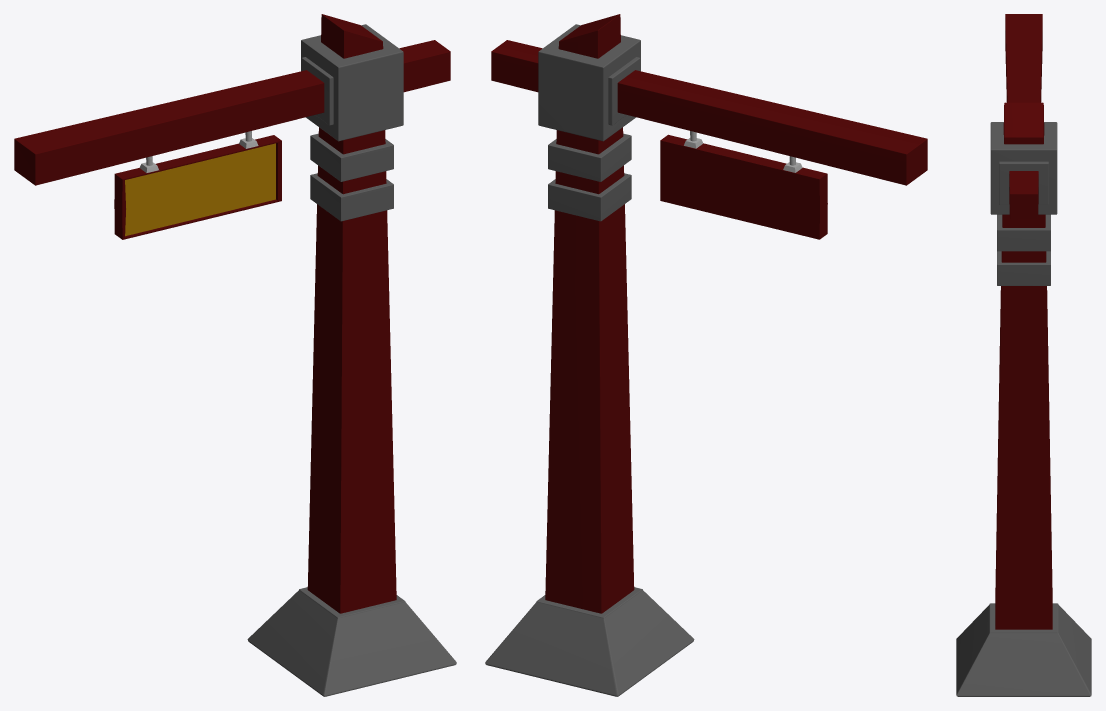
File: sign.fbx
The picture shows the model from 3 angles, left to right: view 1: azimuth 30°, elevation 25°; view 2: azimuth 150°, elevation 25°; view 3: azimuth 270°, elevation 25°; orthographic projection. The views are drawn at different scales.
Parts seen in each view (by area): view 1: SignPillar, Sign; view 2: SignPillar, Sign; view 3: SignPillar.
Boxes of the visible parts, x1,y1,x2,y2 form: SignPillar: [14, 14, 456, 696]; Sign: [114, 133, 281, 239]; SignPillar: [485, 14, 927, 696]; Sign: [660, 133, 827, 239]; SignPillar: [956, 14, 1091, 696].
Bounding box in the file's own units: 10.34 × 15.02 × 3.3.
